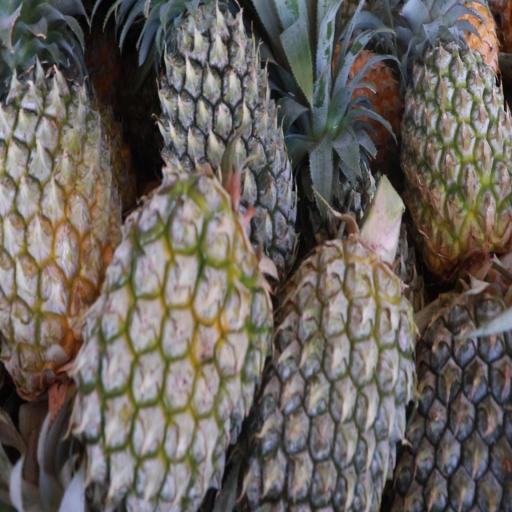------------------------------: (86, 183, 268, 507), (0, 0, 121, 379), (406, 13, 509, 254)
